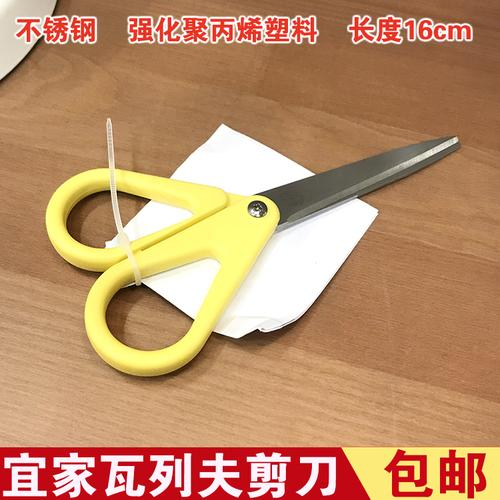scissor: (45, 136, 459, 376)
